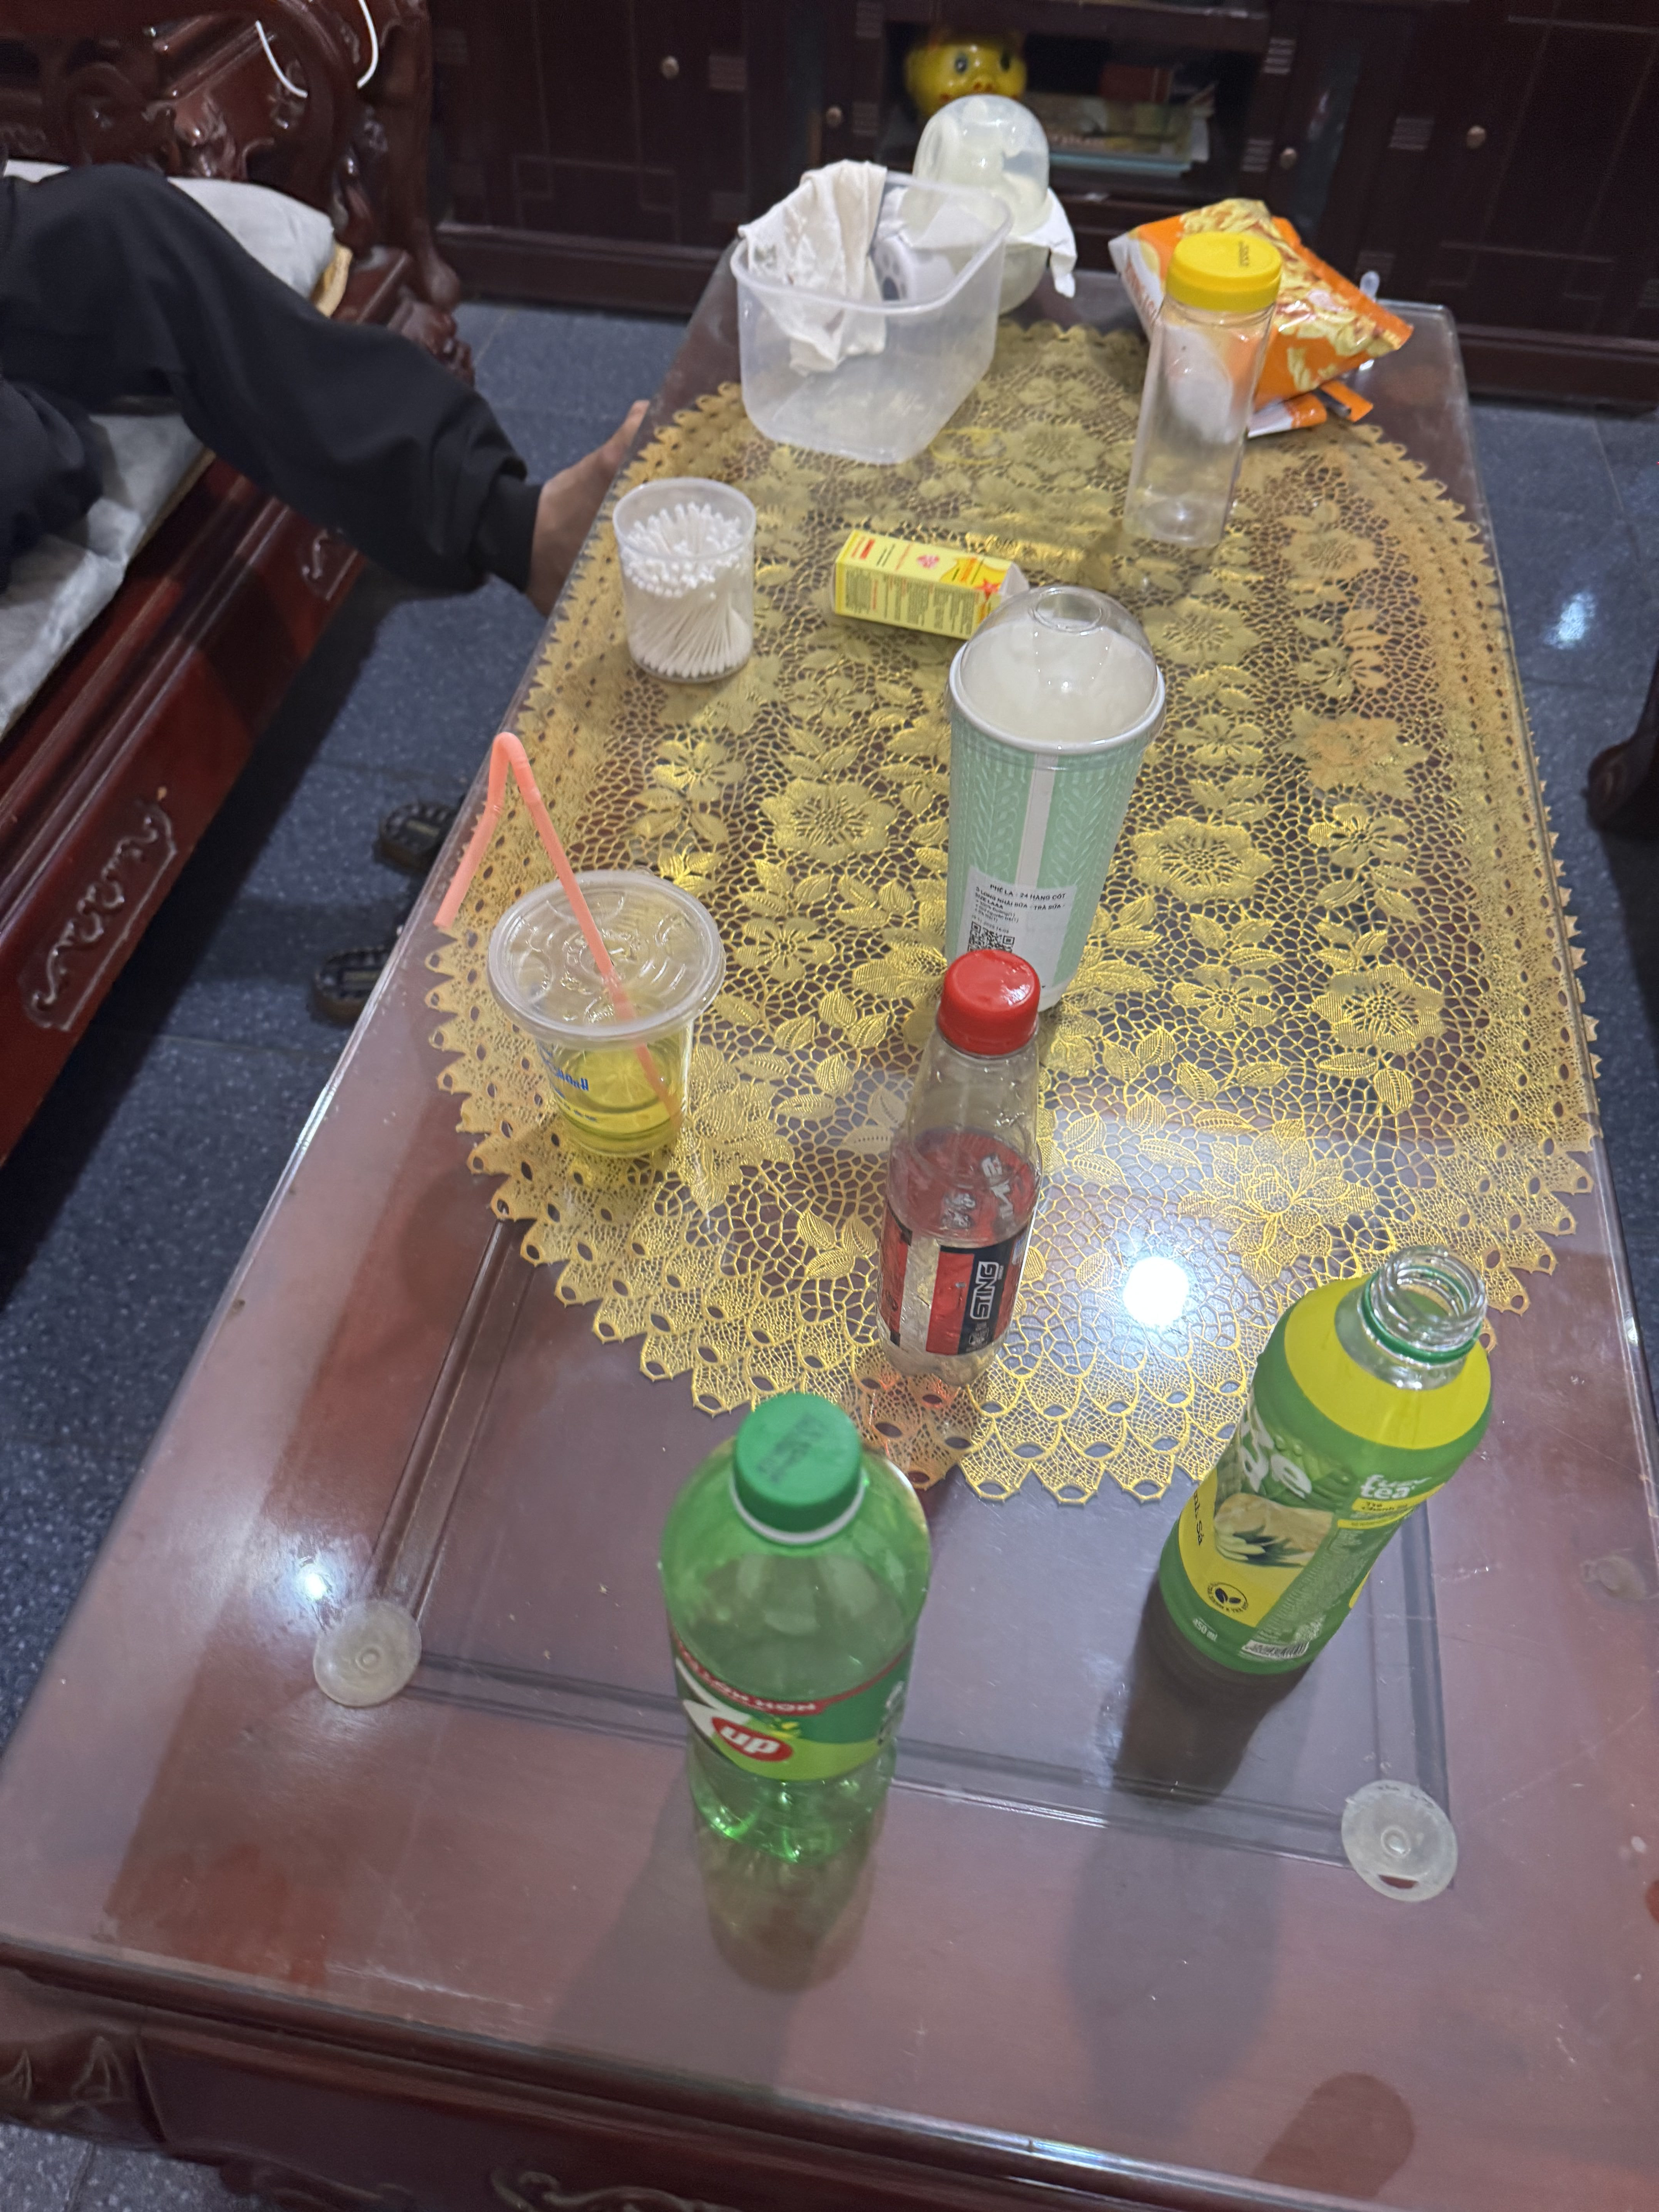2: (429, 714, 755, 1181), (903, 577, 1208, 993)
bottle: (634, 1362, 1002, 1921), (1115, 1230, 1540, 1707), (843, 949, 1089, 1400)
